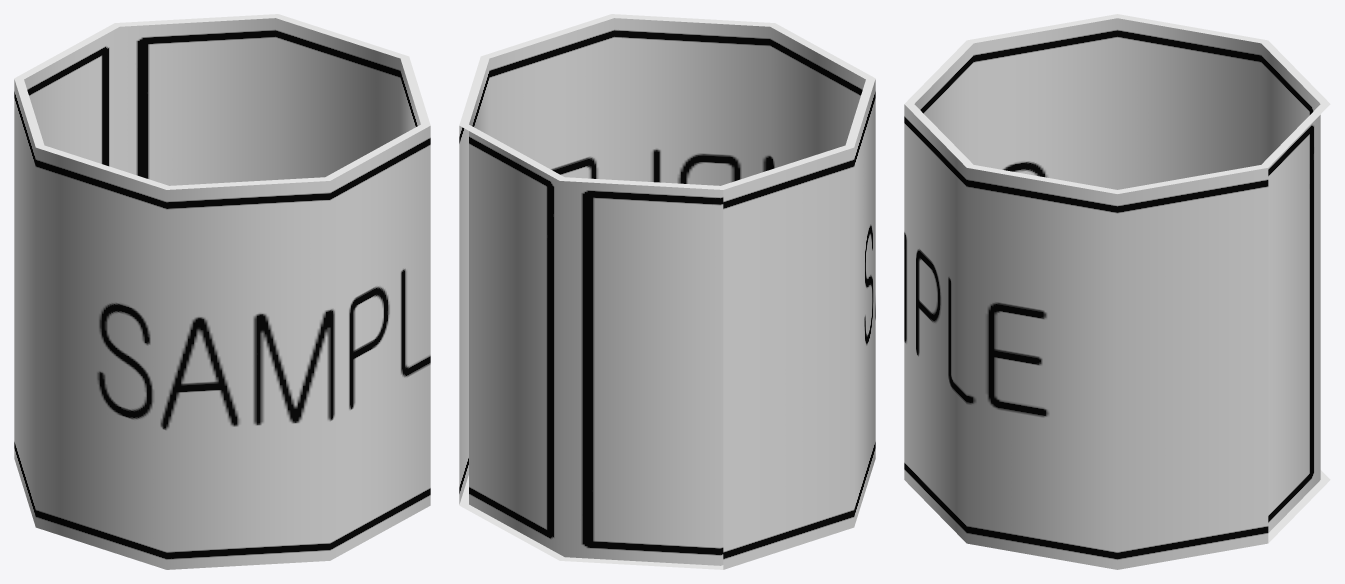
File: Itr_Obj_Dispenser_Label_01.FBX
3 renders of one model, left to right at view 1: azimuth 30°, elevation 25°; view 2: azimuth 150°, elevation 25°; view 3: azimuth 270°, elevation 25°, orthographic.
Parts seen in each view (by area): view 1: Itr_Obj_Dispenser_Label_01; view 2: Itr_Obj_Dispenser_Label_01; view 3: Itr_Obj_Dispenser_Label_01.
Boxes of the visible parts, box(x1,y1,x2,y2) form: Itr_Obj_Dispenser_Label_01: box(14, 14, 430, 569); Itr_Obj_Dispenser_Label_01: box(459, 14, 875, 569); Itr_Obj_Dispenser_Label_01: box(904, 14, 1330, 569).
Bounding box in the file's own units: 3.95 × 3.84 × 3.95.
